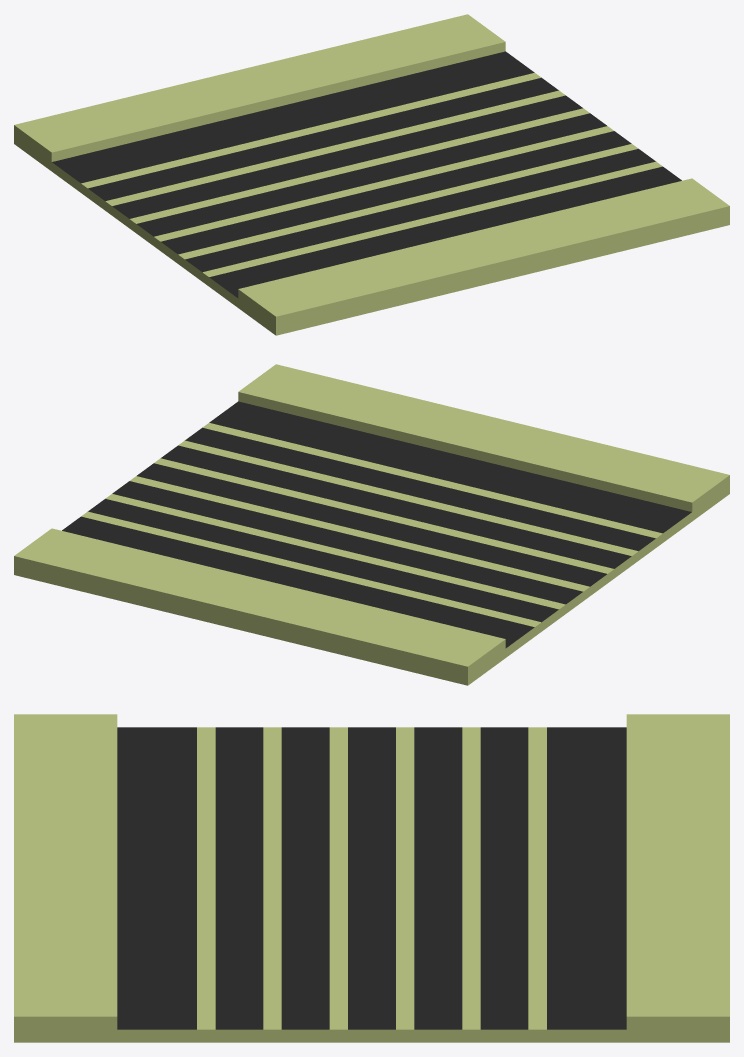
File: road.glb
3 renders of one model, top to bottom at view 1: azimuth 30°, elevation 25°; view 2: azimuth 150°, elevation 25°; view 3: azimuth 270°, elevation 25°, orthographic. The views are drawn at different scales.
Visible parts, largest first — view 1: Road 7; view 2: Road 7; view 3: Road 7.
Part boxes in pixels (bbox=[...]): Road 7: bbox=[14, 14, 729, 335]; Road 7: bbox=[14, 364, 729, 685]; Road 7: bbox=[14, 714, 729, 1042].
Bounding box in the file's own units: 5 × 0.2 × 5.
